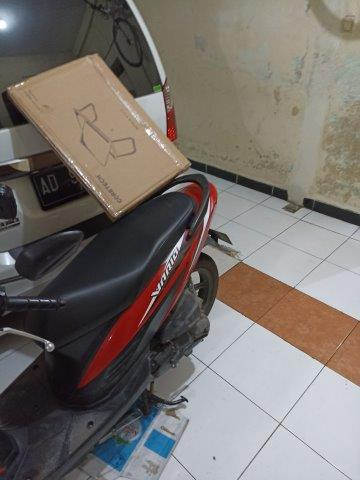kardus: (11, 56, 190, 216)
